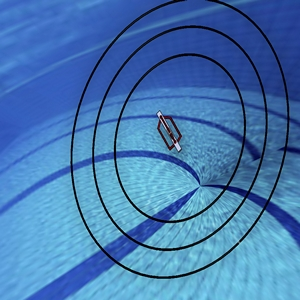circle: (64, 1, 291, 295)
submarine: (146, 99, 192, 165)
